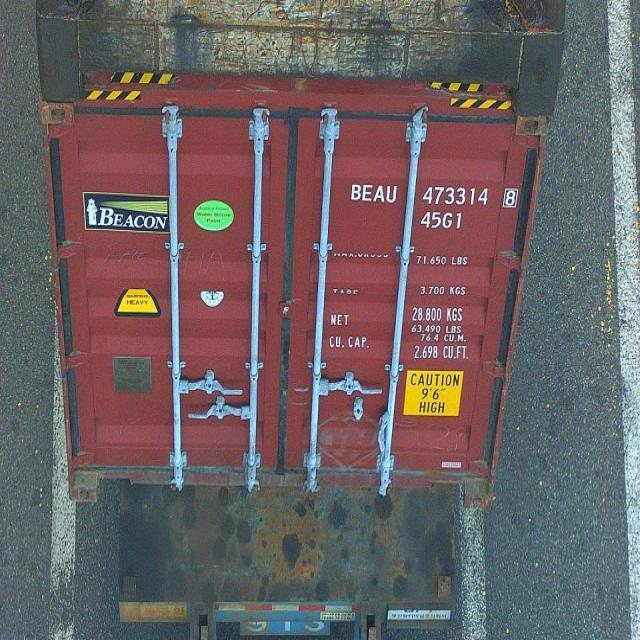ISO: (418, 210, 464, 233)
container_number: (348, 178, 518, 208)
